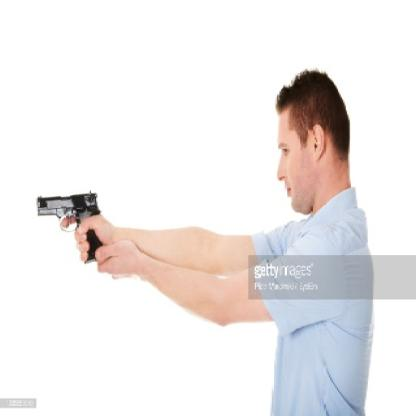handgun: (34, 186, 101, 262)
